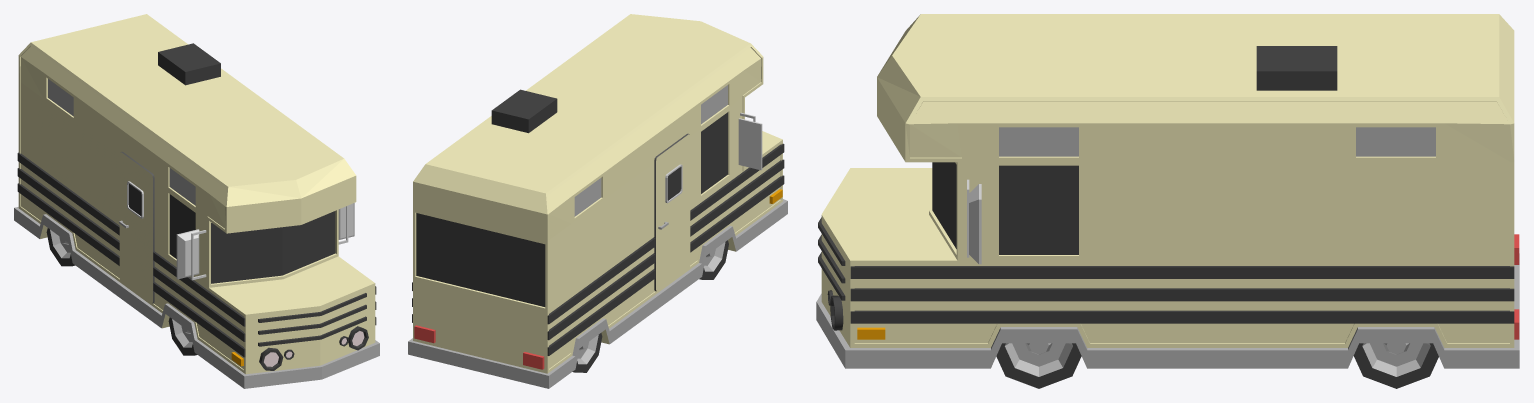
Rendered from Caravan_1.FBX.
3 views of the same model, side by side, from view 1: azimuth 30°, elevation 25°; view 2: azimuth 150°, elevation 25°; view 3: azimuth 270°, elevation 25° (orthographic). The views are drawn at different scales.
Visible parts, largest first — view 1: Hood, Wheel_Back_Left, Wheel_Front_Left; view 2: Hood, Wheel_Back_Left, Wheel_Front_Left; view 3: Hood, Wheel_Front_Right, Wheel_Back_Right.
Boxes of the visible parts, box(x1,y1,x2,y2) form: Hood: box(14, 14, 379, 388); Wheel_Back_Left: box(46, 228, 75, 266); Wheel_Front_Left: box(168, 317, 197, 355); Hood: box(408, 14, 787, 388); Wheel_Back_Left: box(572, 333, 602, 372); Wheel_Front_Left: box(699, 240, 728, 279); Hood: box(816, 14, 1519, 368); Wheel_Front_Right: box(996, 343, 1081, 388); Wheel_Back_Right: box(1353, 343, 1438, 388).
Bounding box in the file's own units: 328 × 373 × 770.
